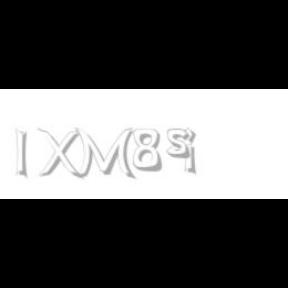8: (132, 128, 162, 172)
M: (74, 128, 134, 180)
X: (37, 128, 81, 180)
i: (184, 128, 200, 176)
l: (15, 128, 31, 180)
s: (167, 128, 195, 160)
